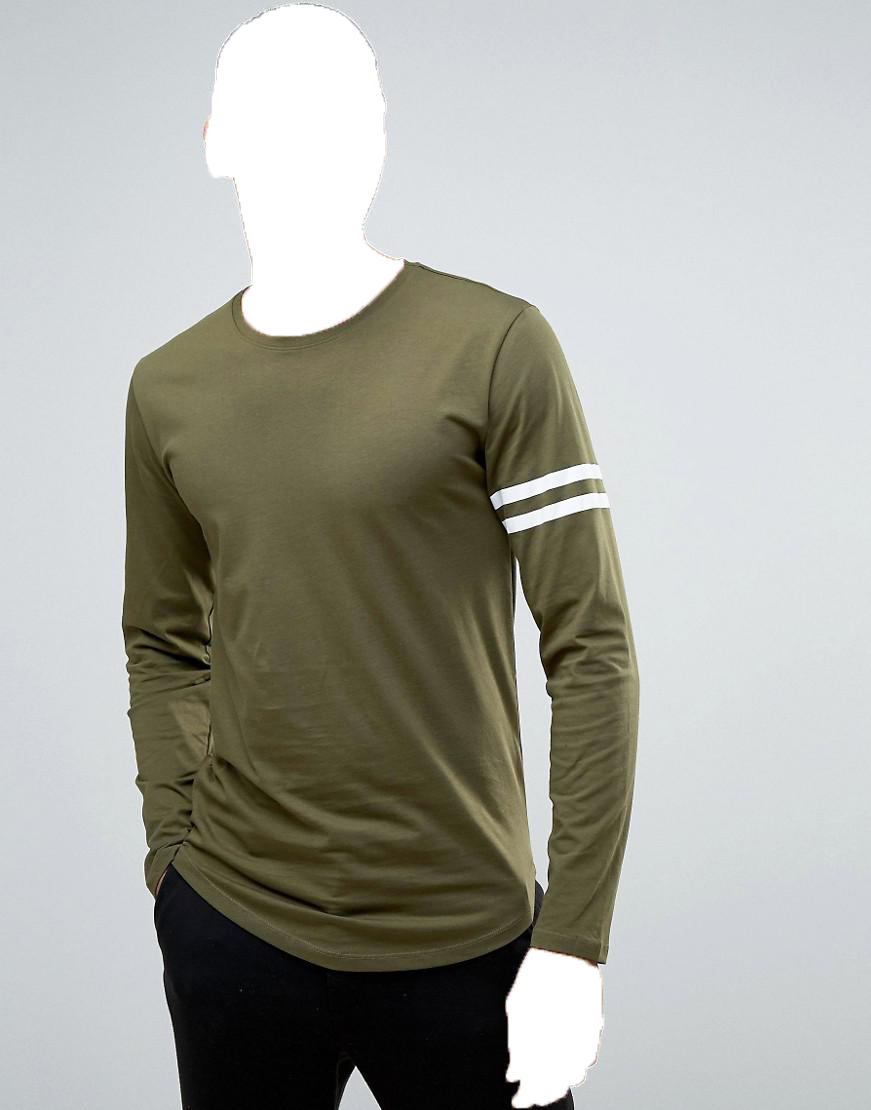teeshirt: (98, 262, 646, 973)
